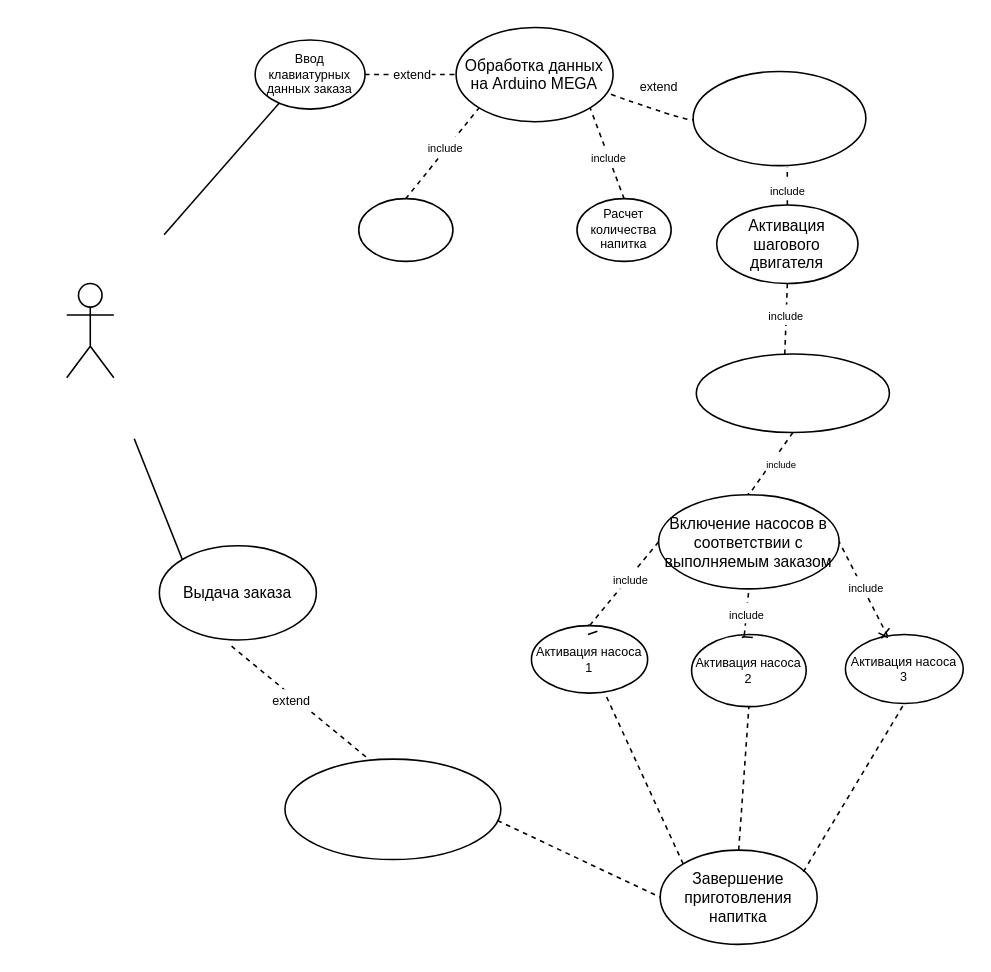
This 991x972 diagram has some shape labels left out. The shapes that lost their labels are listed below. From the top down, each one's centre as x and y in pixels, then its label:
At point 779,118: "Активация алгоритма для получения напитка".
At point 405,229: "Выбранный напиток".
At point 89,330: "Пользователь".
At point 792,392: "Получить данные с ультразвукового датчика о наличии стакана в зоне налива".
At point 392,809: "Активация шагового двигателя для перемещения заказа в зону выдачи".
